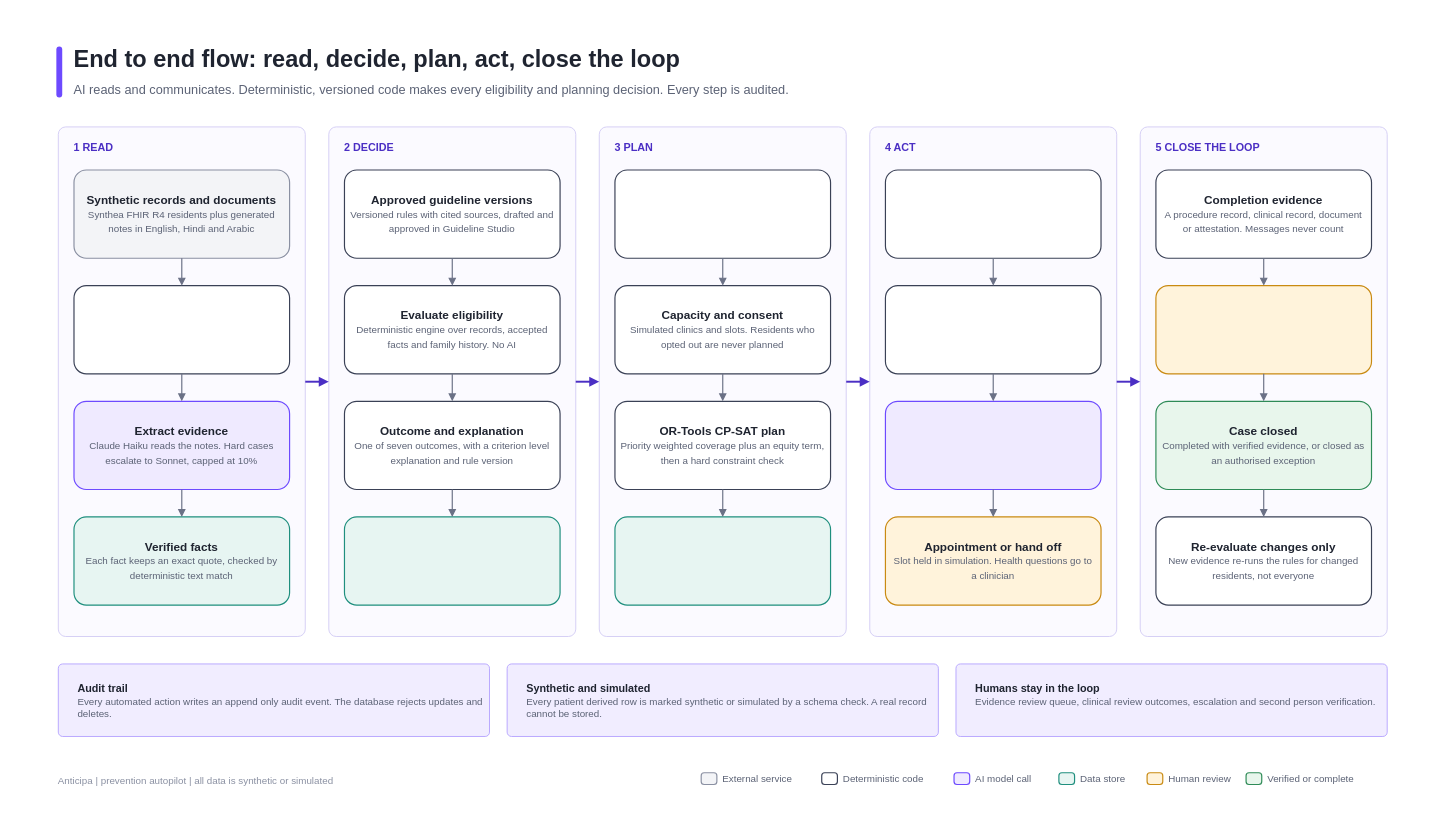
This 1445x817 diagram has some shape labels left out. Each missing label, with the centre of its shape:
"Allocations and reasons Every case gets a slot or a stated reason it did not" goes at point (722, 560).
"Approved outreach Templates in three languages. AI drafting is optional" goes at point (992, 213).
"Care gap case Opened with a deterministic priority and a full status history" goes at point (451, 560).
"Load and link Streaming normaliser, COPY bulk load, seeded family linker" goes at point (181, 329).
"Open cases Grouped by service, district, priority and language" goes at point (722, 213).
"Resident reply Safety classifier first, then logistics only, then a reply check" goes at point (992, 445).
"Second person review A different person verifies or rejects the evidence" goes at point (1263, 329).
"Simulated message Queued, sent, delivered or failed. Nobody is contacted" goes at point (992, 329).
